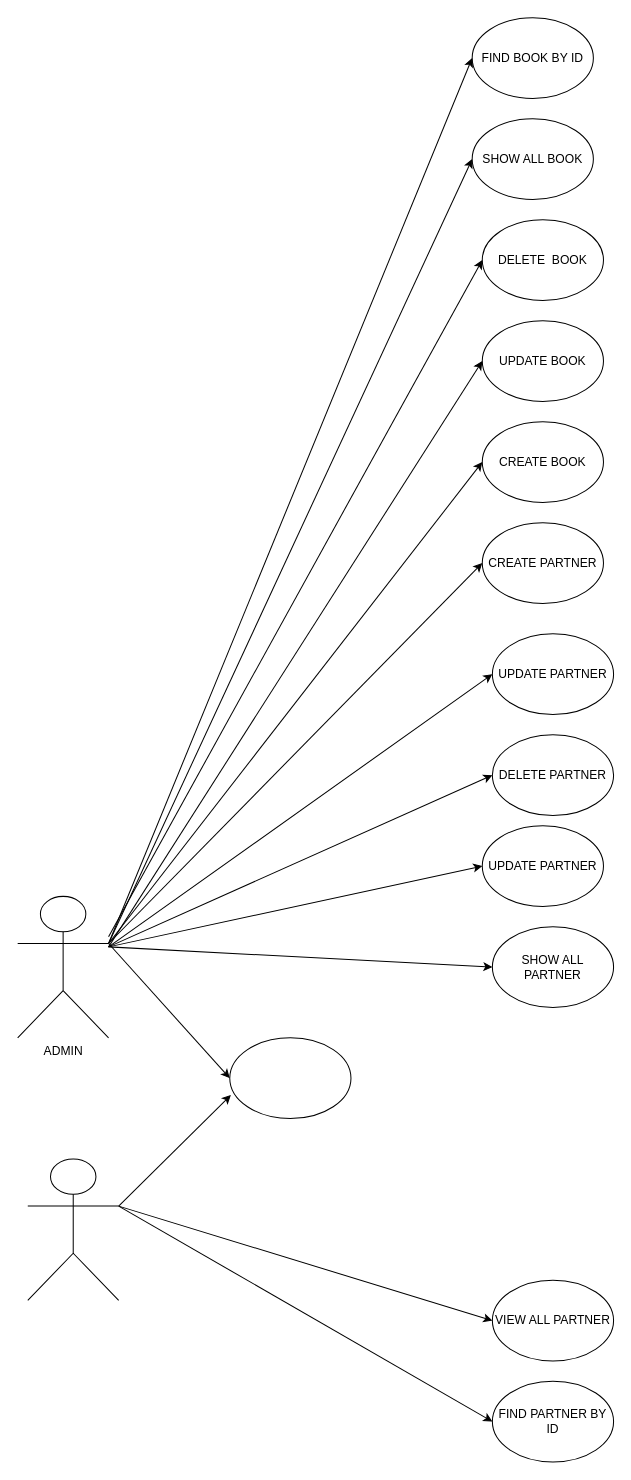
Some shapes in this 631 by 1480 pixel diagram are drawn without their labels. Each missing label, with the centre of its shape:
"LOGIN" goes at (290,1078).
"PARTNER" goes at (73,1229).
